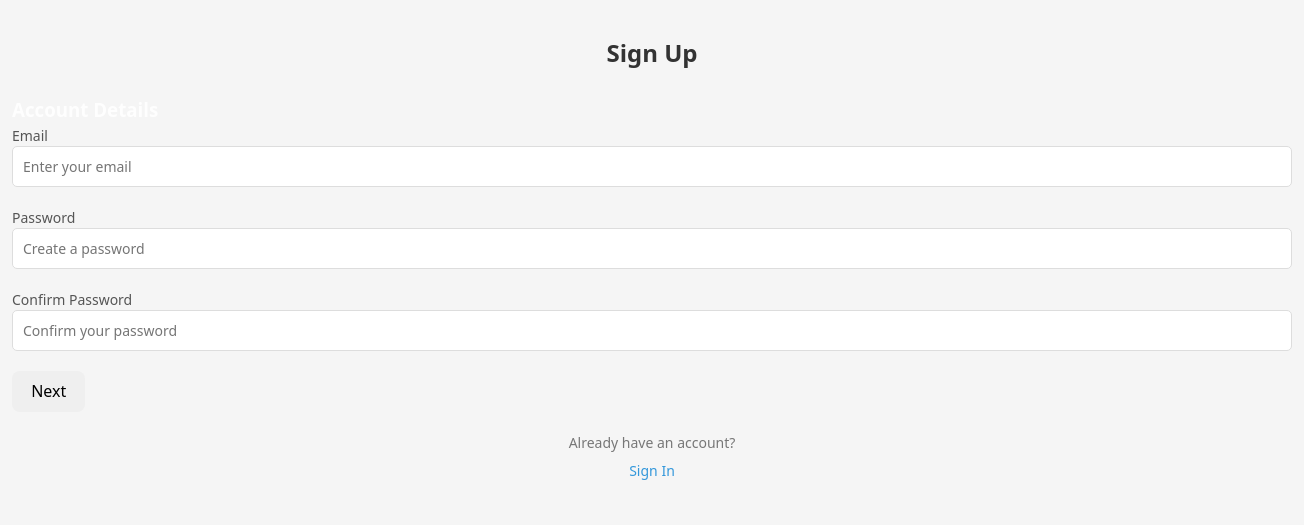
Test case: SignUpForm › shows error if password is less than 6 characters
The image size is (1304, 525).
Step 1. Type "user@example.com" into the field labelled "Email" → (652, 166), box x1=12 y1=146 x2=1292 y2=186
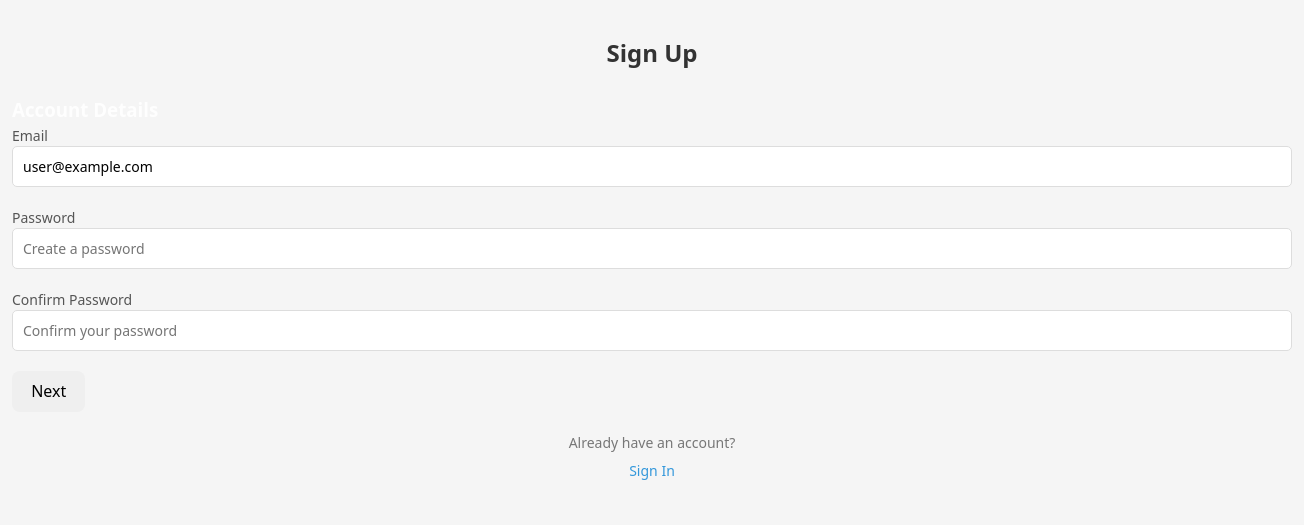
Step 2. Type "123" into the password field labelled "Password" → (652, 248), box x1=12 y1=228 x2=1292 y2=268
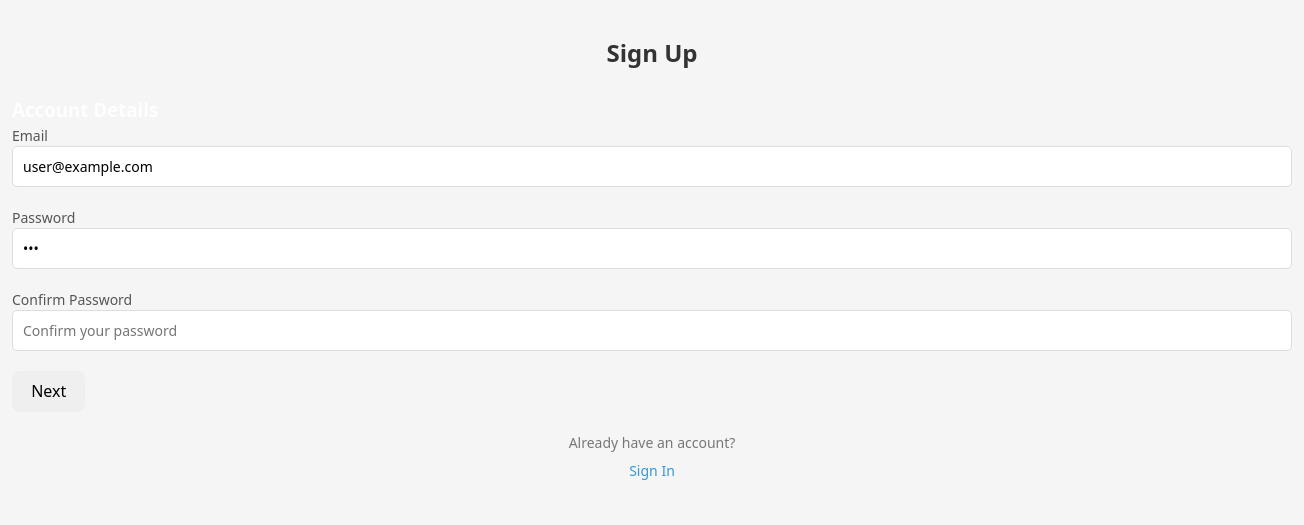
Step 3. Type "123" into the password field labelled "Confirm Password" → (652, 330), box x1=12 y1=310 x2=1292 y2=350
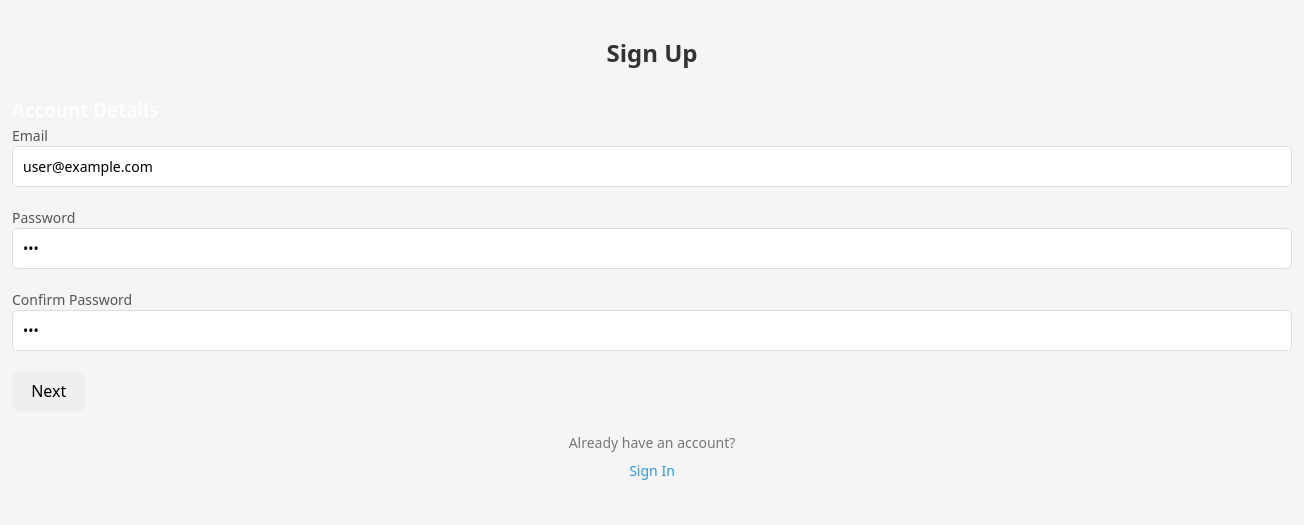
Step 4. Click the button "Next" → (49, 391), box x1=12 y1=370 x2=86 y2=412
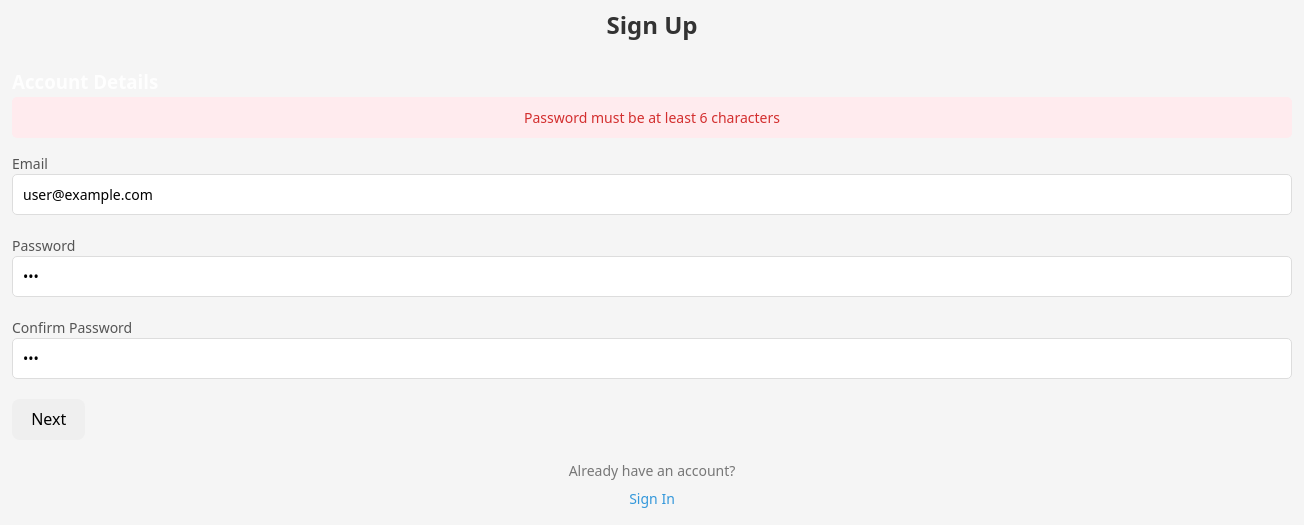
Now the text "Password must be at least 6 characters" is shown, box x1=12 y1=96 x2=1292 y2=138
